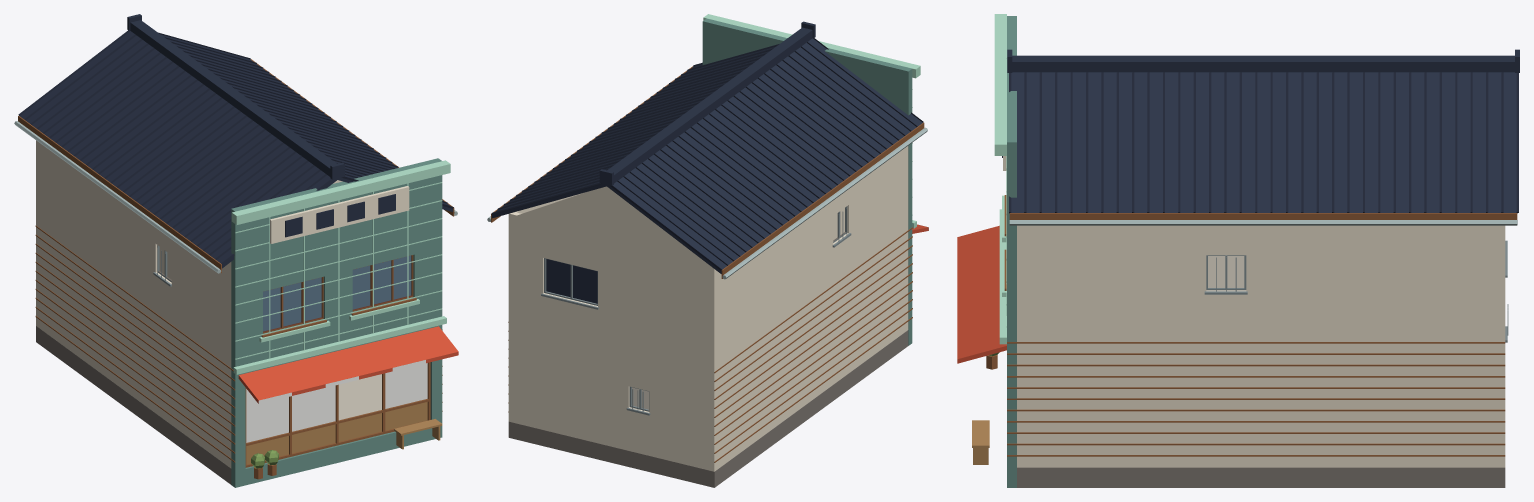
File: tb_kanban_shop_2f_01.fbx
3 renders of one model, left to right at view 1: azimuth 30°, elevation 25°; view 2: azimuth 150°, elevation 25°; view 3: azimuth 270°, elevation 25°, orthographic. The views are drawn at different scales.
Parts seen in each view (by area): view 1: tb_kanban_shop_2f_01; view 2: tb_kanban_shop_2f_01; view 3: tb_kanban_shop_2f_01.
Boxes of the visible parts, box(x1,y1,x2,y2) form: tb_kanban_shop_2f_01: box(14, 14, 458, 487); tb_kanban_shop_2f_01: box(487, 14, 928, 487); tb_kanban_shop_2f_01: box(957, 14, 1519, 487).
Size of what is drawn, in the model's own units: 6.98 by 8.23 by 11.3.
2 materials, 2 textured.
